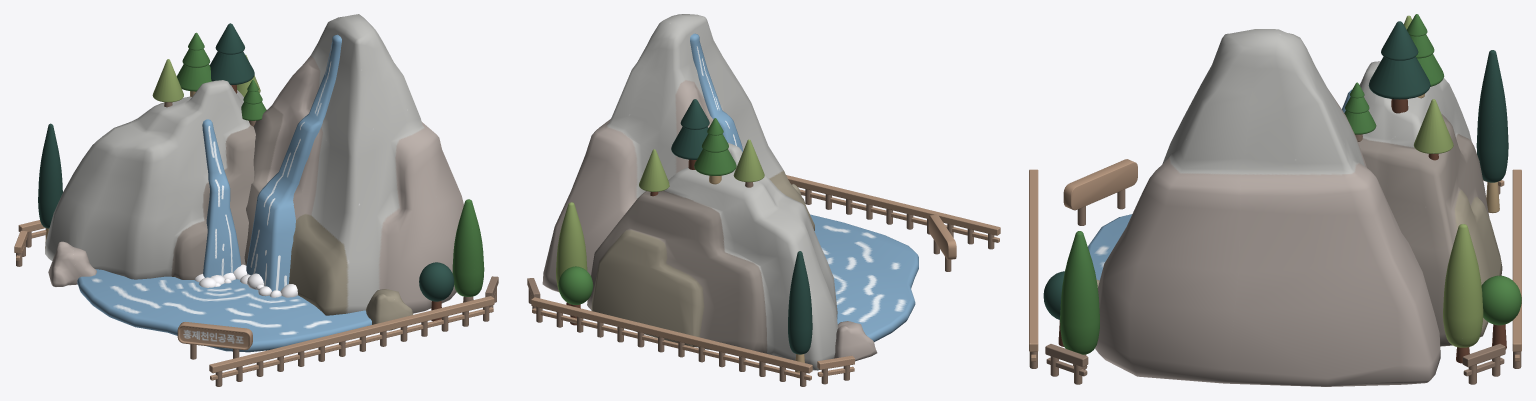
File: hongjecheon_artificial_waterfall.glb
3 views of the same model, side by side, from view 1: azimuth 30°, elevation 25°; view 2: azimuth 150°, elevation 25°; view 3: azimuth 270°, elevation 25° (orthographic). The views are drawn at different scales.
Visible parts, largest first — view 1: SeoulEdition_25_9; view 2: SeoulEdition_25_9; view 3: SeoulEdition_25_9.
Boxes of the visible parts, left/top/right/bottom form: SeoulEdition_25_9: left=14, top=14, right=498, bottom=386; SeoulEdition_25_9: left=527, top=14, right=1000, bottom=386; SeoulEdition_25_9: left=1029, top=14, right=1521, bottom=386.
Size of the model in its own units: 24.1 by 16.76 by 24.03.
Materials: 1 (1 with a texture image).
